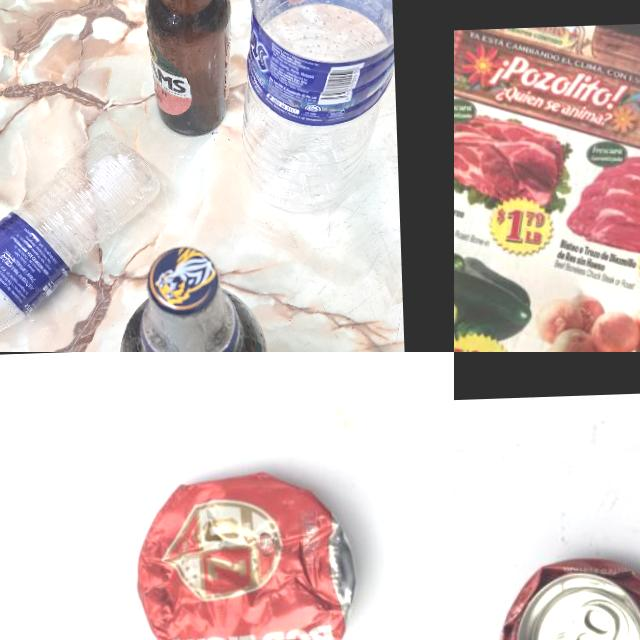aba de lata: (566, 590, 621, 640)
garrafa de vidro: (116, 243, 272, 352), (141, 0, 232, 138)
garrafa plástica: (0, 132, 173, 352), (232, 0, 398, 214)
lata: (133, 469, 361, 640), (488, 552, 640, 640)
papel: (454, 15, 640, 352)
